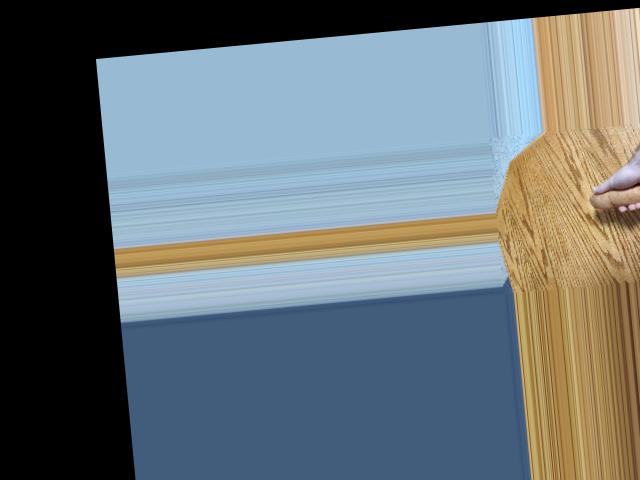sweet_potato: (580, 172, 640, 215)
